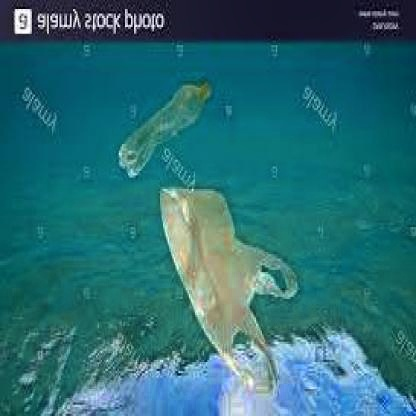pbag: (155, 166, 298, 396)
pbottle: (114, 67, 212, 180)
